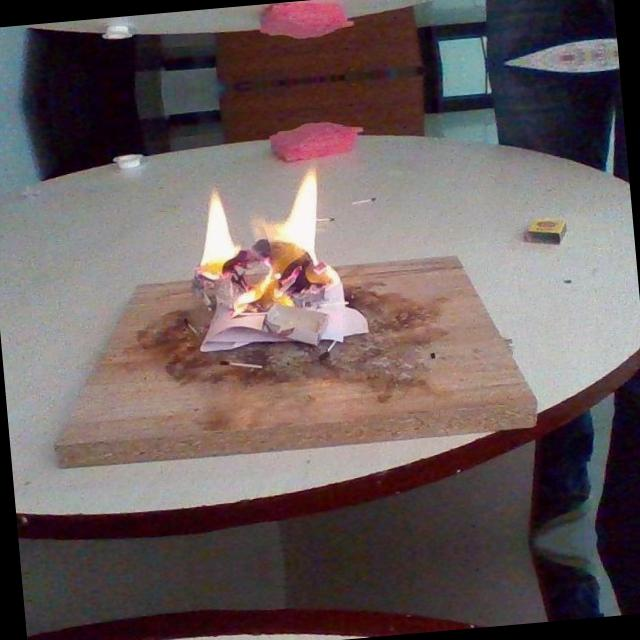fire: (148, 133, 375, 356)
